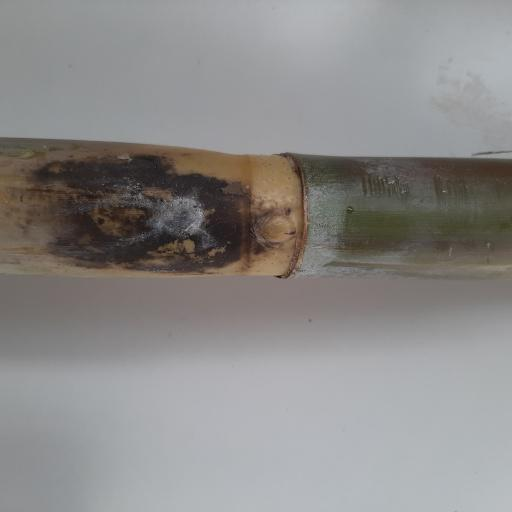Bud: (253, 213, 298, 243)
